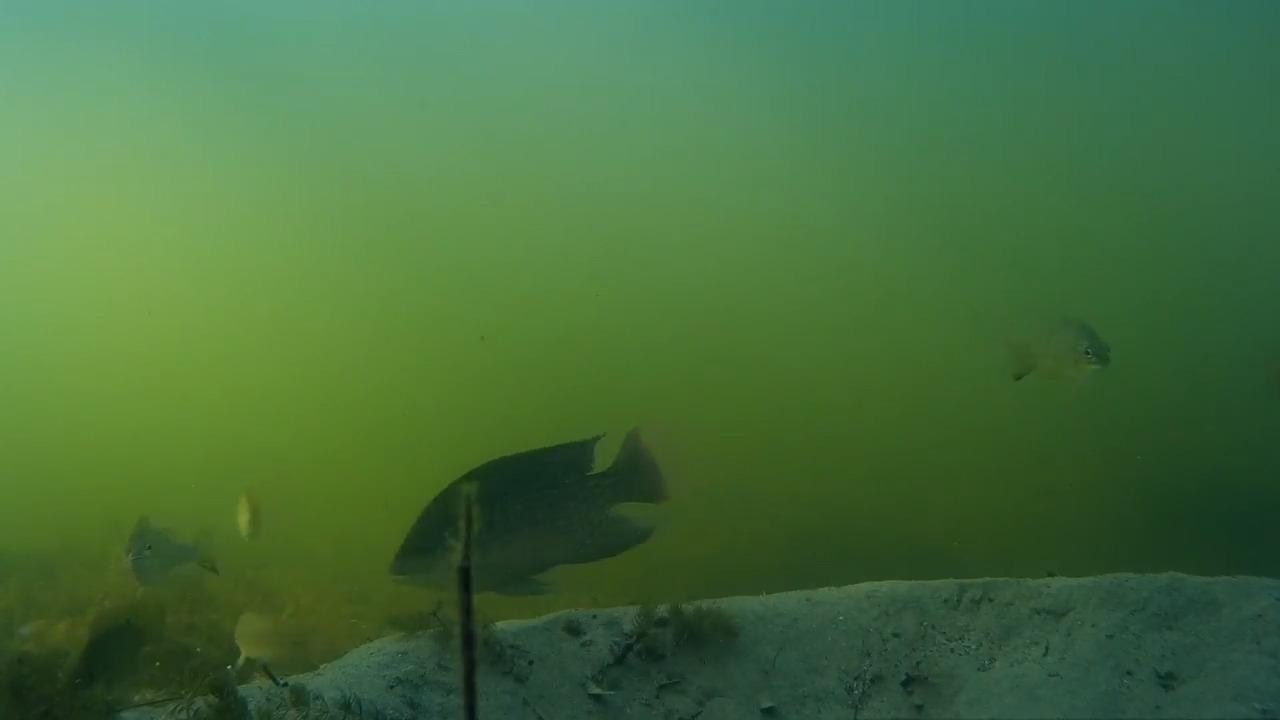Tilapia: (395, 423, 691, 603), (89, 500, 216, 586), (995, 315, 1116, 387), (224, 604, 329, 684), (227, 476, 282, 550)
